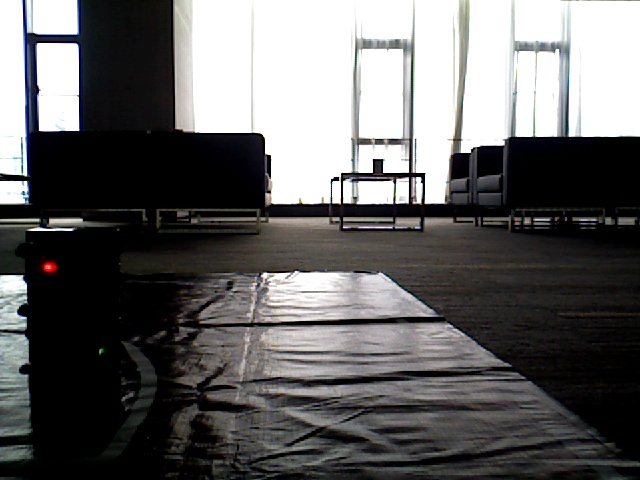red: (25, 231, 89, 361)
